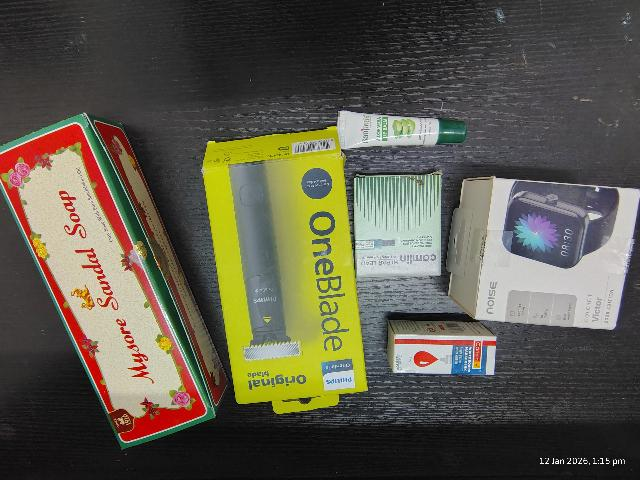banjaras lipbam: (338, 110, 468, 149)
camlin lids: (353, 172, 441, 275)
camlin marker ink: (387, 323, 494, 376)
mysore sandal soap: (1, 124, 217, 443)
noise victor smartwatch: (450, 180, 636, 329)
phillips oneblade: (202, 141, 364, 403)
